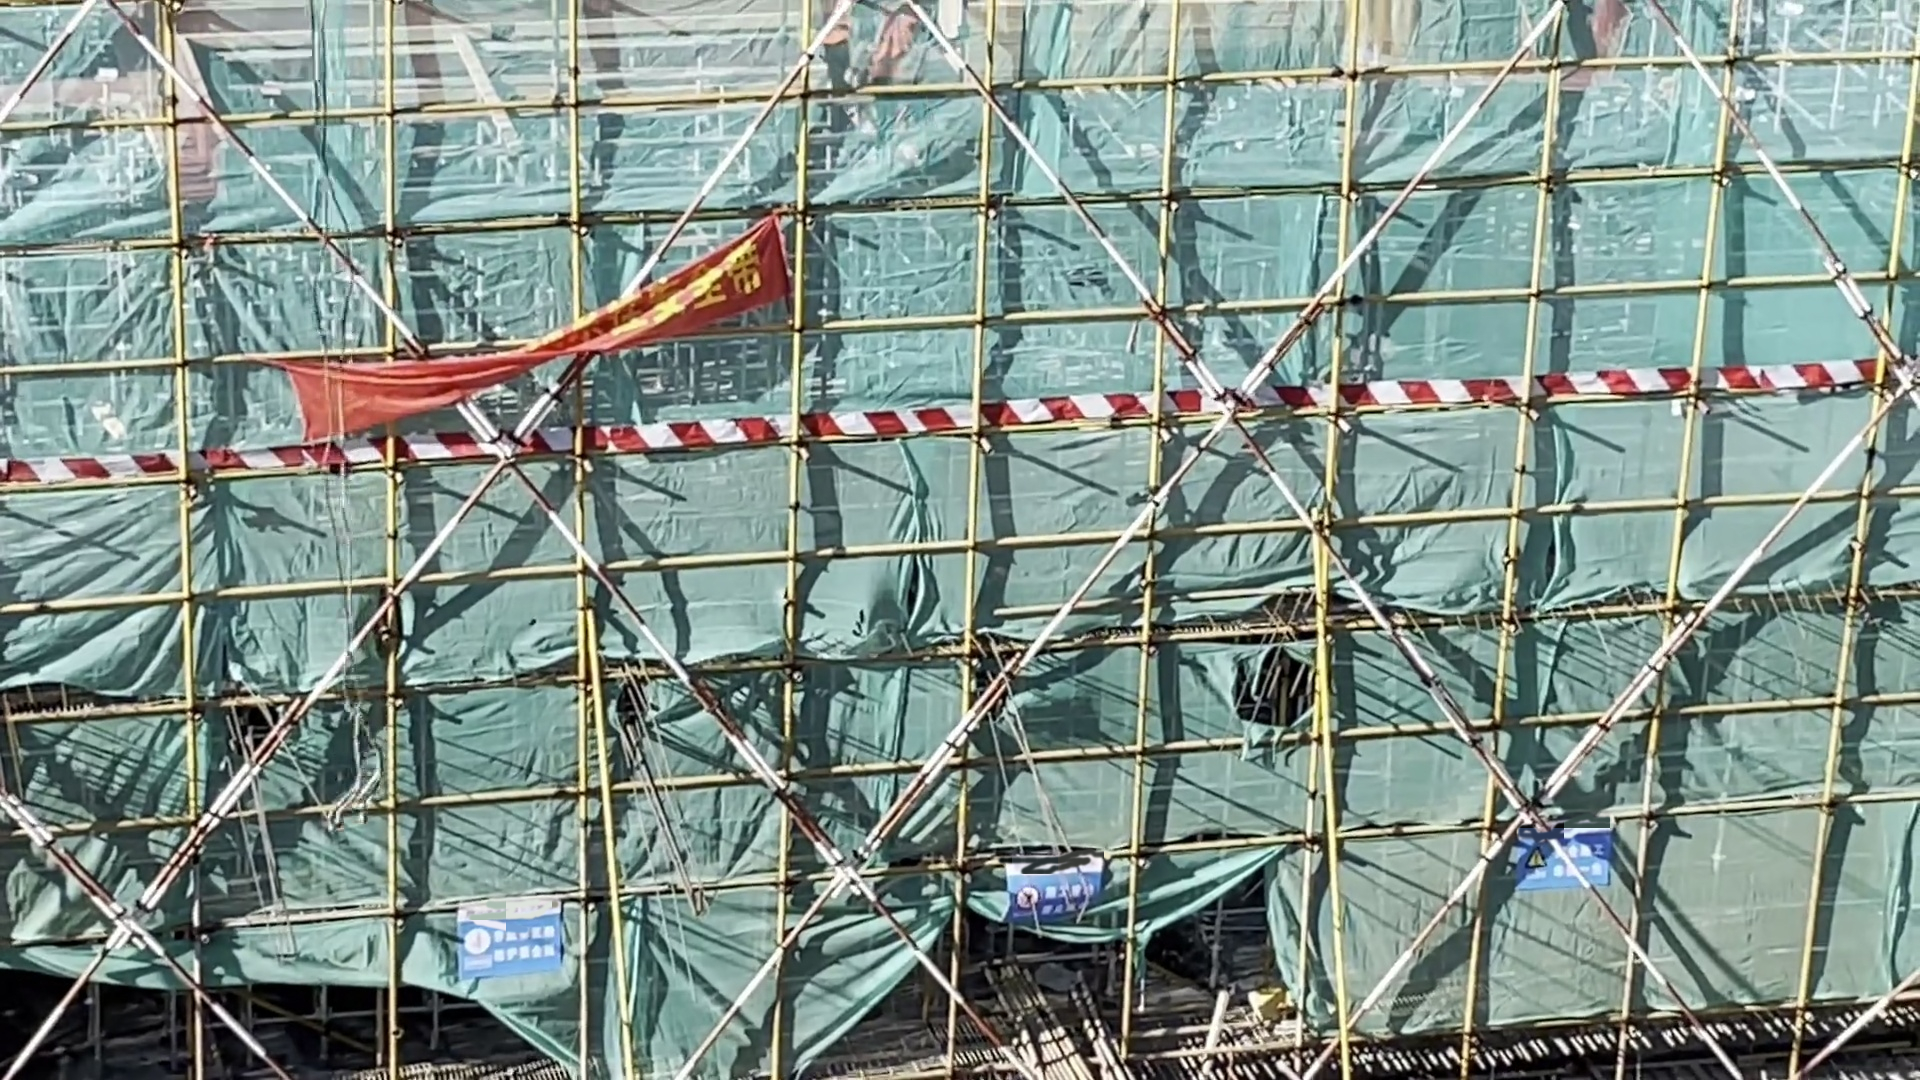slogan: (281, 208, 798, 434)
